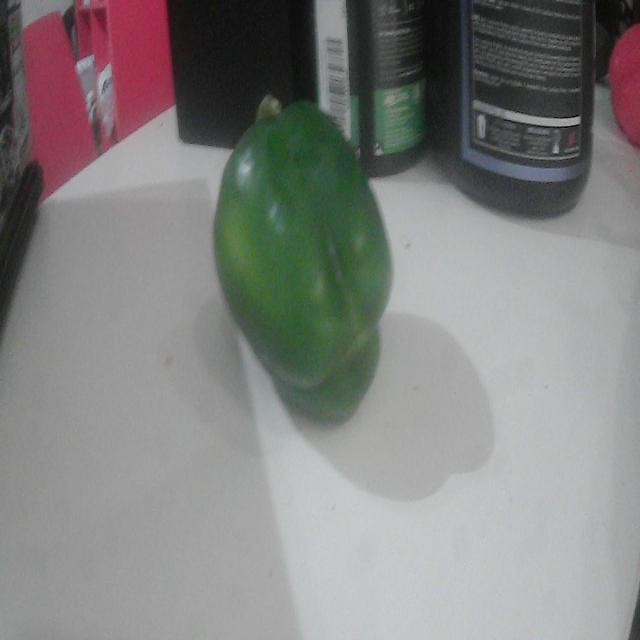Bell Pepper: (214, 101, 391, 421)
